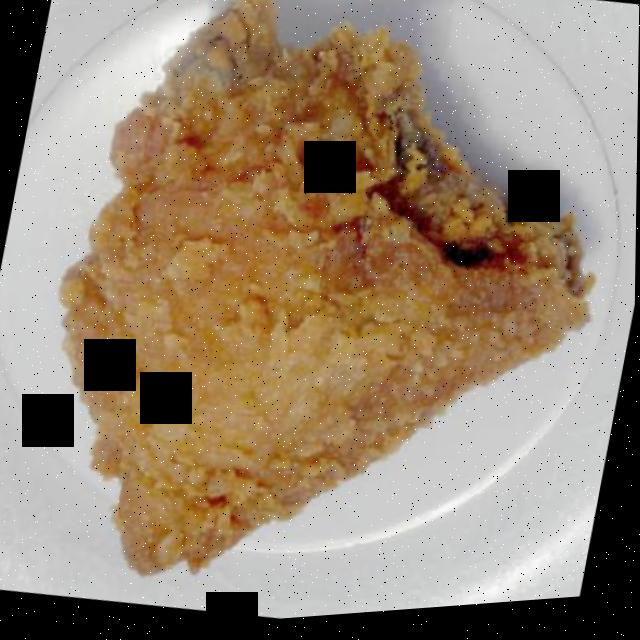Frango: (17, 42, 590, 622)
